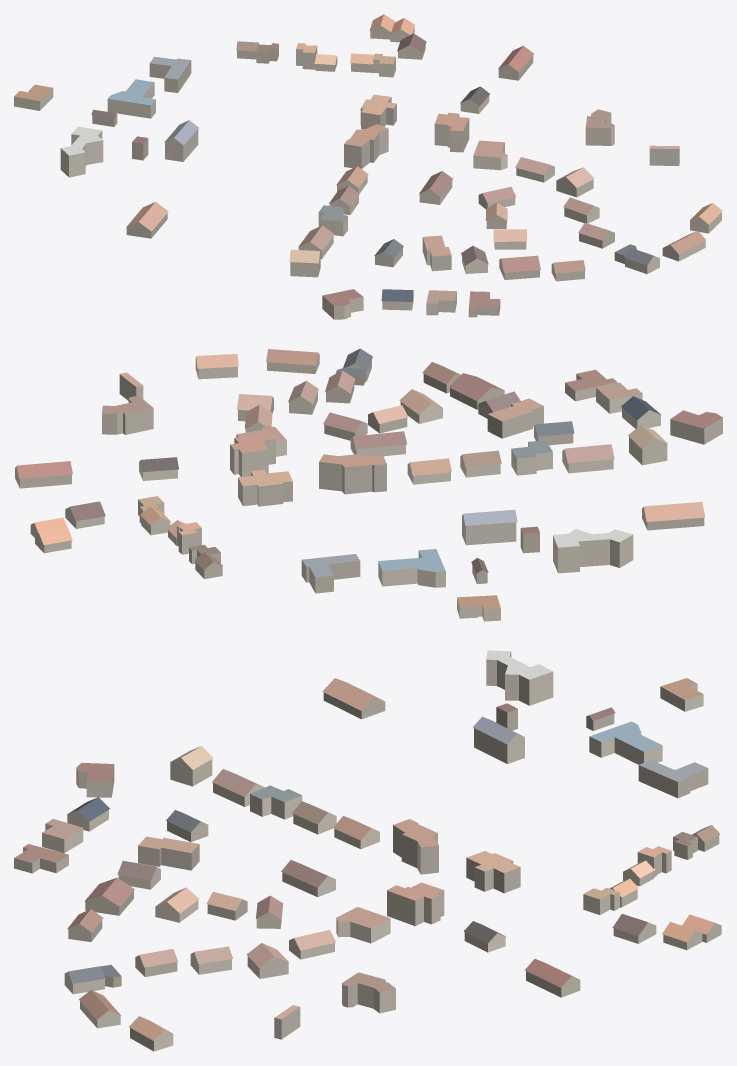
The picture shows the model from 3 angles, top to bottom: view 1: azimuth 30°, elevation 25°; view 2: azimuth 150°, elevation 25°; view 3: azimuth 270°, elevation 25°; orthographic projection. The views are drawn at different scales.
Visible parts, largest first — view 1: tuile; view 2: tuile; view 3: tuile.
Boxes of the visible parts, left/top/right/bottom form: tuile: left=14, top=14, right=722, bottom=319; tuile: left=15, top=348, right=722, bottom=621; tuile: left=14, top=650, right=721, bottom=1051.
Bounding box in the file's own units: 266 × 42.23 × 261.
